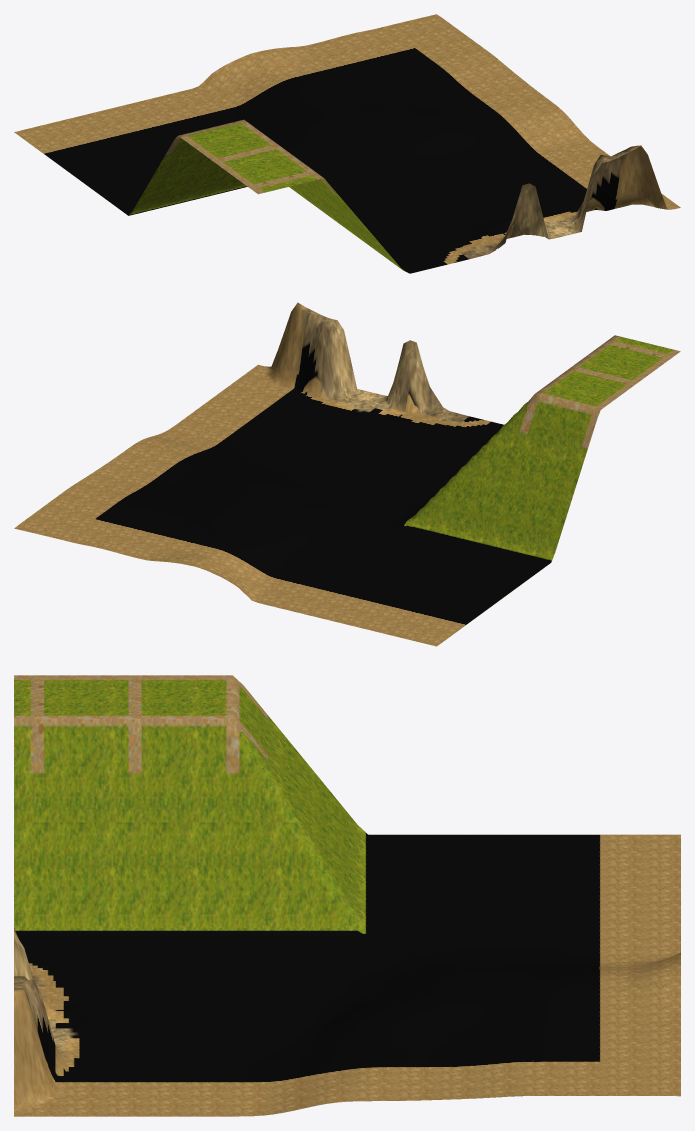
File: terrain.glb
3 renders of one model, top to bottom at view 1: azimuth 30°, elevation 25°; view 2: azimuth 150°, elevation 25°; view 3: azimuth 270°, elevation 25°, orthographic. The views are drawn at different scales.
Visible parts, largest first — view 1: terrain_5_5; view 2: terrain_5_5; view 3: terrain_5_5.
Part boxes in pixels (x1,y1,x2,y2): terrain_5_5: (14, 14, 680, 273); terrain_5_5: (14, 302, 680, 646); terrain_5_5: (14, 675, 680, 1116).
Bounding box in the file's own units: 512 × 135 × 512.
1 material, 1 textured.
